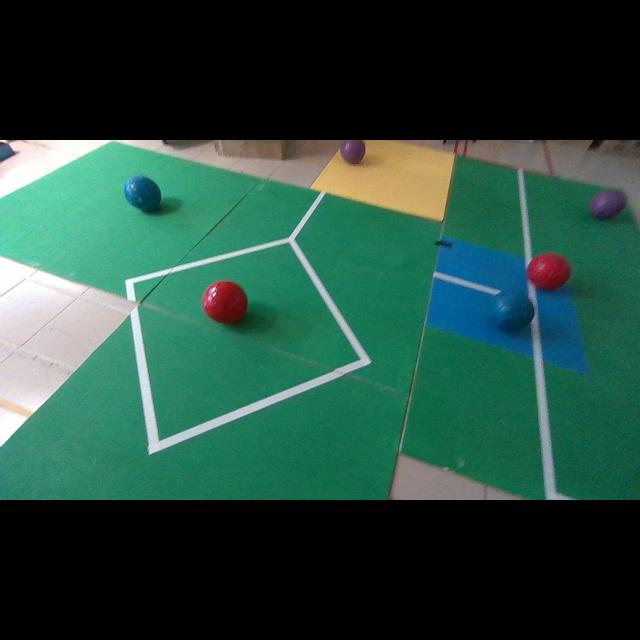B: (490, 290, 534, 331), (124, 175, 161, 211)
P: (589, 191, 626, 219), (340, 140, 365, 164)
R: (202, 280, 246, 323), (528, 252, 571, 289)
